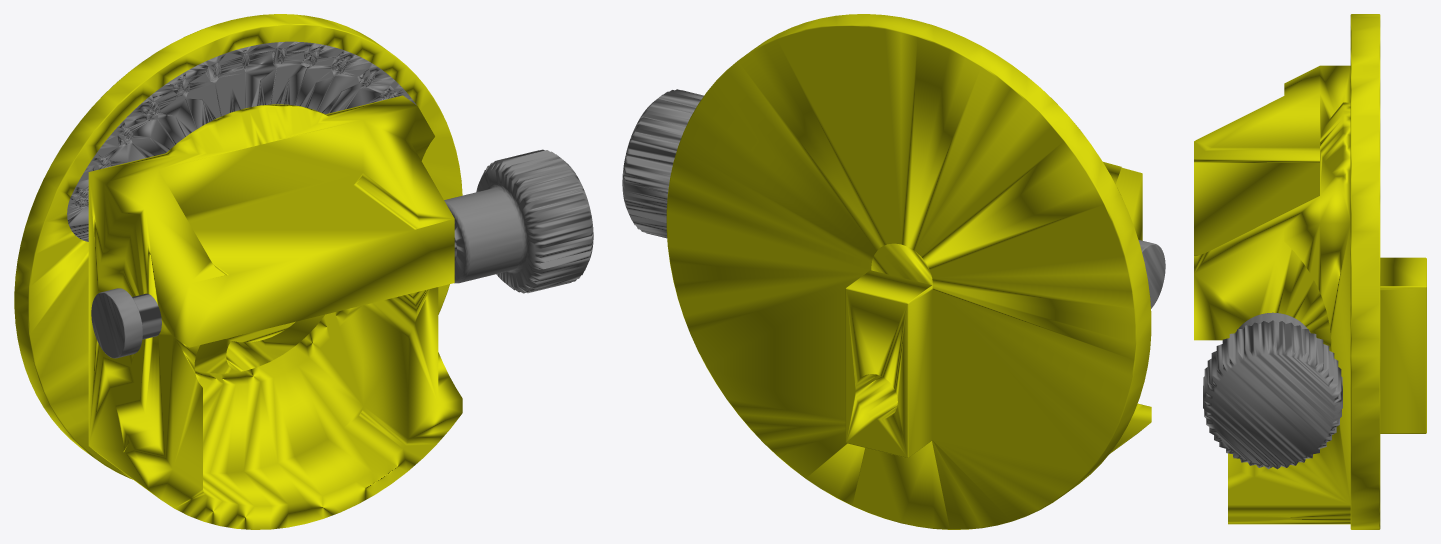
Rendered from lowerparts_frontplate.obj.
The picture shows the model from 3 angles, left to right: view 1: azimuth 30°, elevation 25°; view 2: azimuth 150°, elevation 25°; view 3: azimuth 270°, elevation 25°; orthographic projection. The views are drawn at different scales.
Bounding box in the file's own units: 50.71 × 44.34 × 20.
